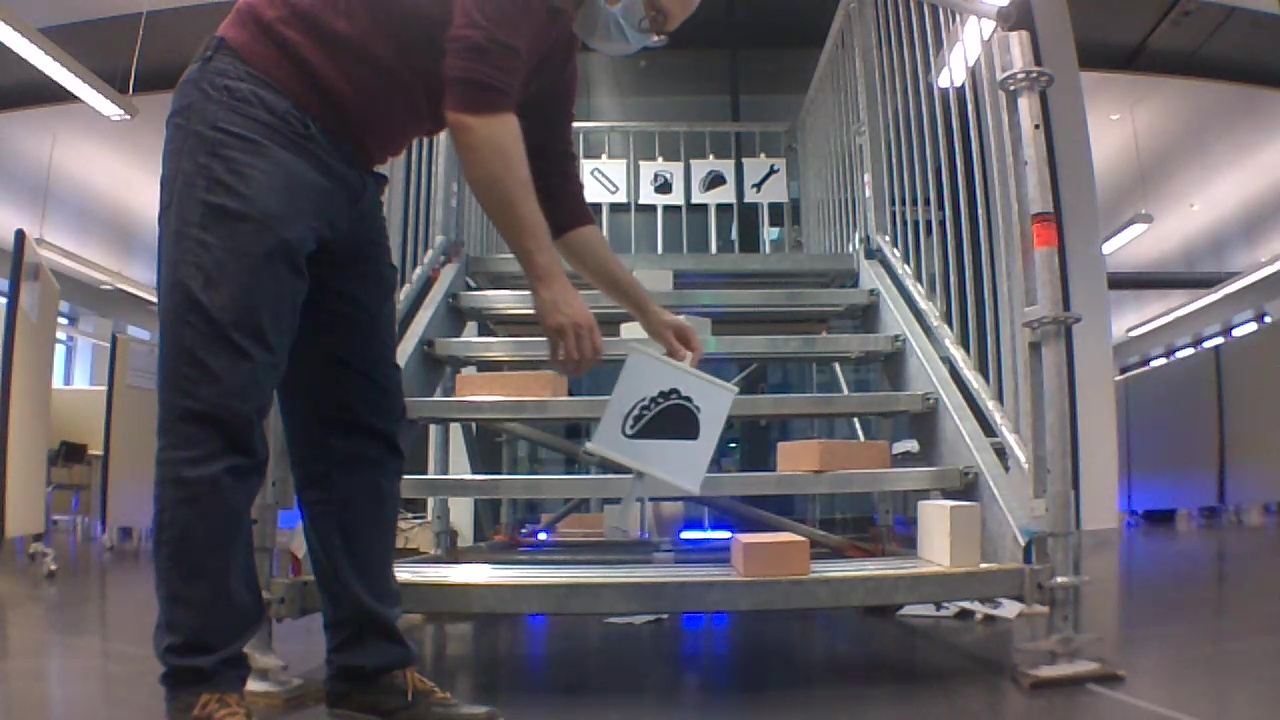brick: (917, 499, 981, 566), (777, 438, 890, 471), (729, 532, 808, 577), (455, 370, 567, 397), (637, 268, 672, 289)
bucket: (646, 167, 675, 196)
edge: (405, 567, 1024, 610)
ruler: (588, 166, 621, 196)
taco: (617, 379, 709, 444), (695, 166, 730, 195)
wrench: (747, 161, 781, 198)
